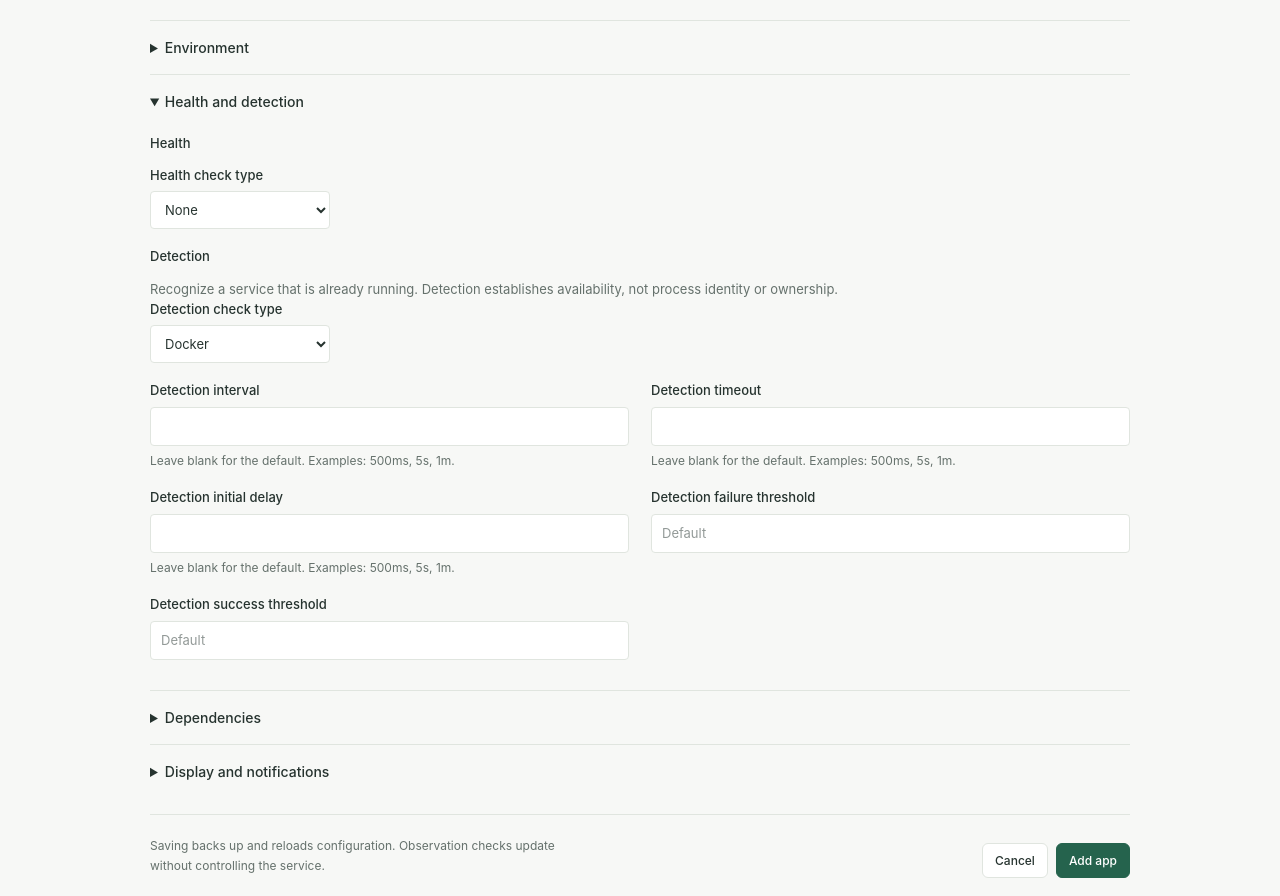
Test: recognizes a Compose project behind a TCP listener and preserves its published port
(page scrolled)
Step 1. Click the button "Add app" → click(1093, 861), box [1056,843,1130,878]
(page scrolled)
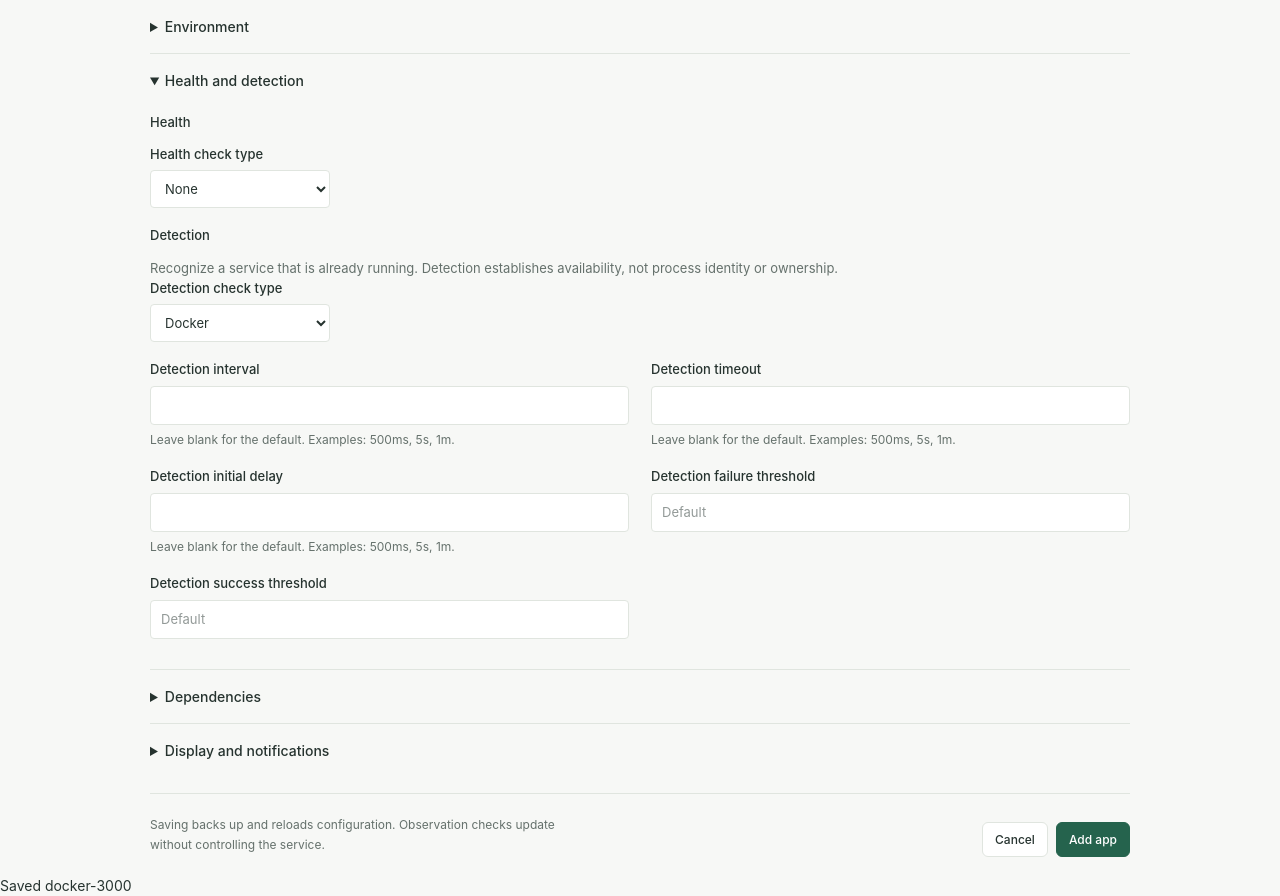
Expected: the text "Saved docker-3000" is shown, [0,877,132,894]
